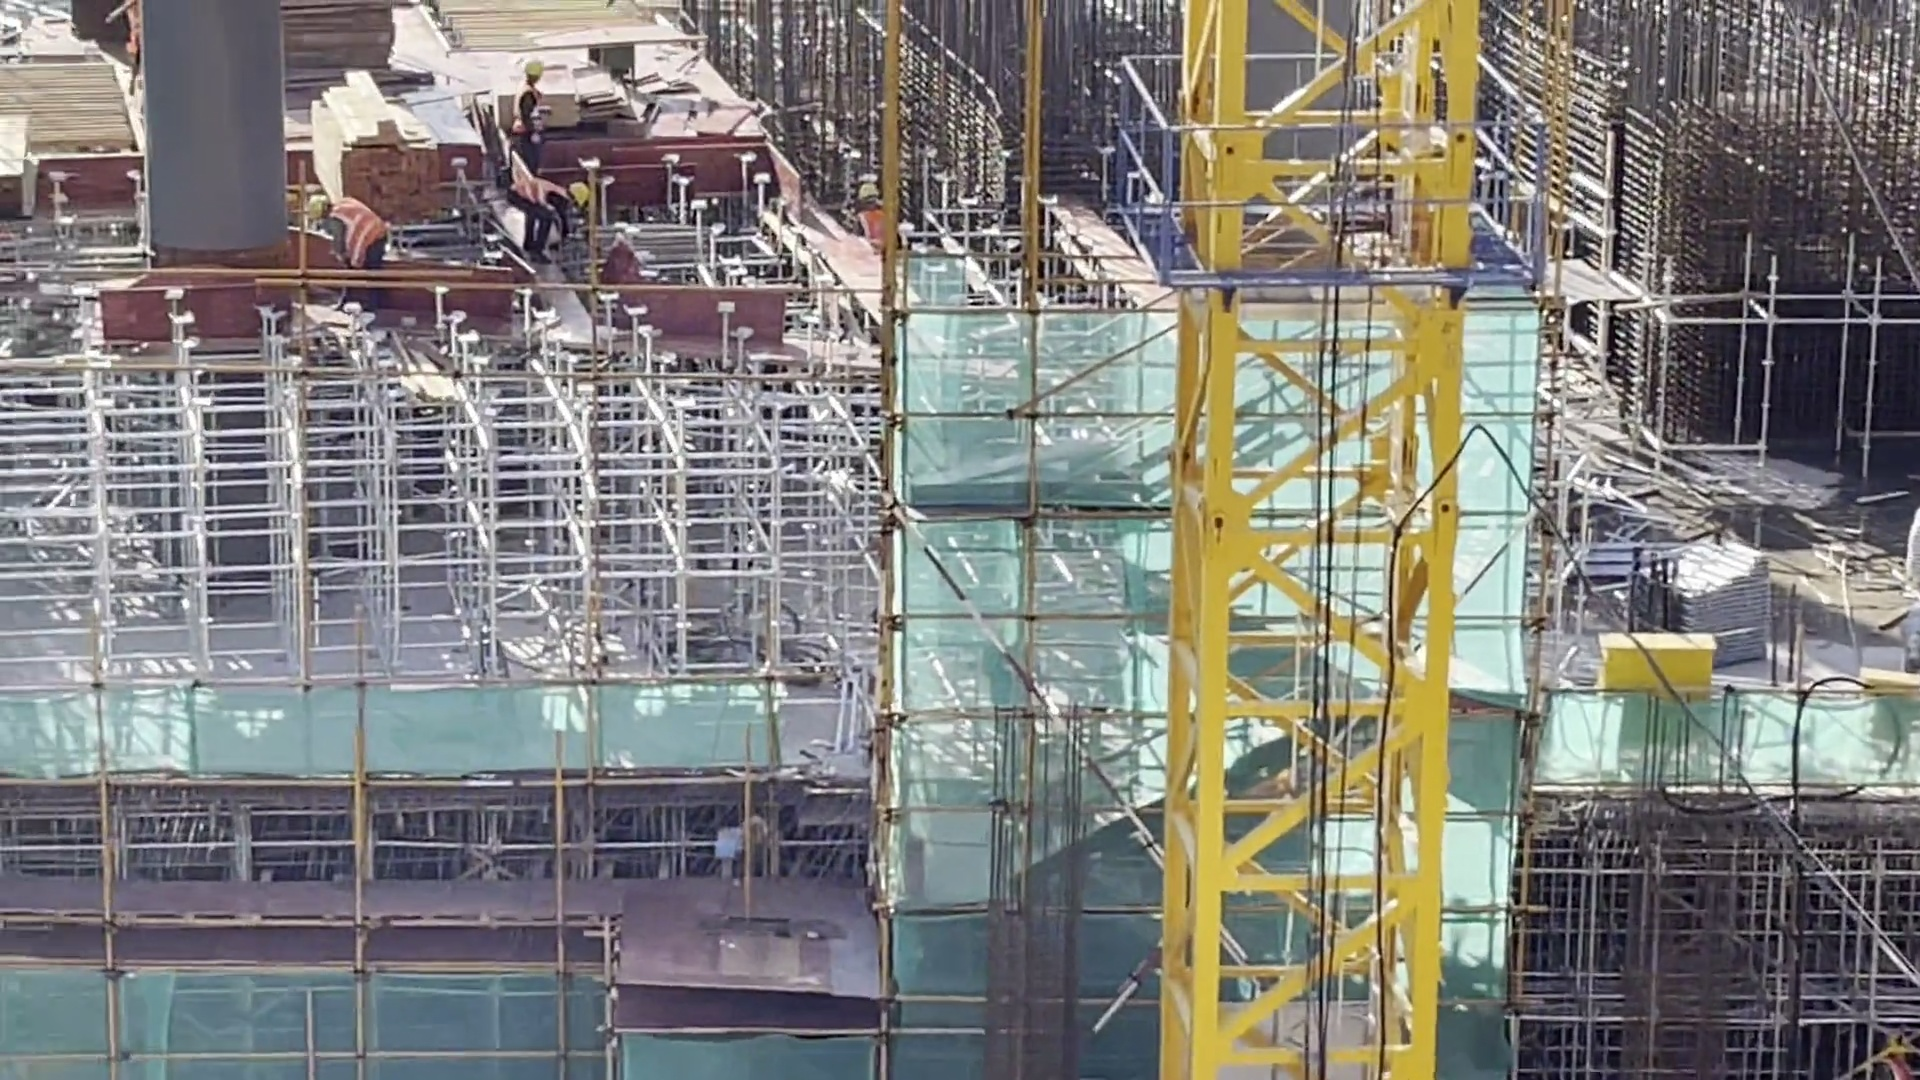helmet: (304, 196, 324, 226), (1889, 1036, 1914, 1059), (571, 179, 594, 204), (859, 186, 879, 211), (525, 61, 542, 79)
person: (299, 183, 378, 286), (489, 178, 596, 246), (849, 186, 893, 256), (511, 66, 549, 138), (113, 1, 139, 90), (1883, 1025, 1917, 1080)
vest: (330, 197, 383, 266), (863, 211, 896, 254), (511, 179, 568, 201), (122, 1, 139, 58), (515, 87, 535, 126), (1889, 1059, 1914, 1072)
